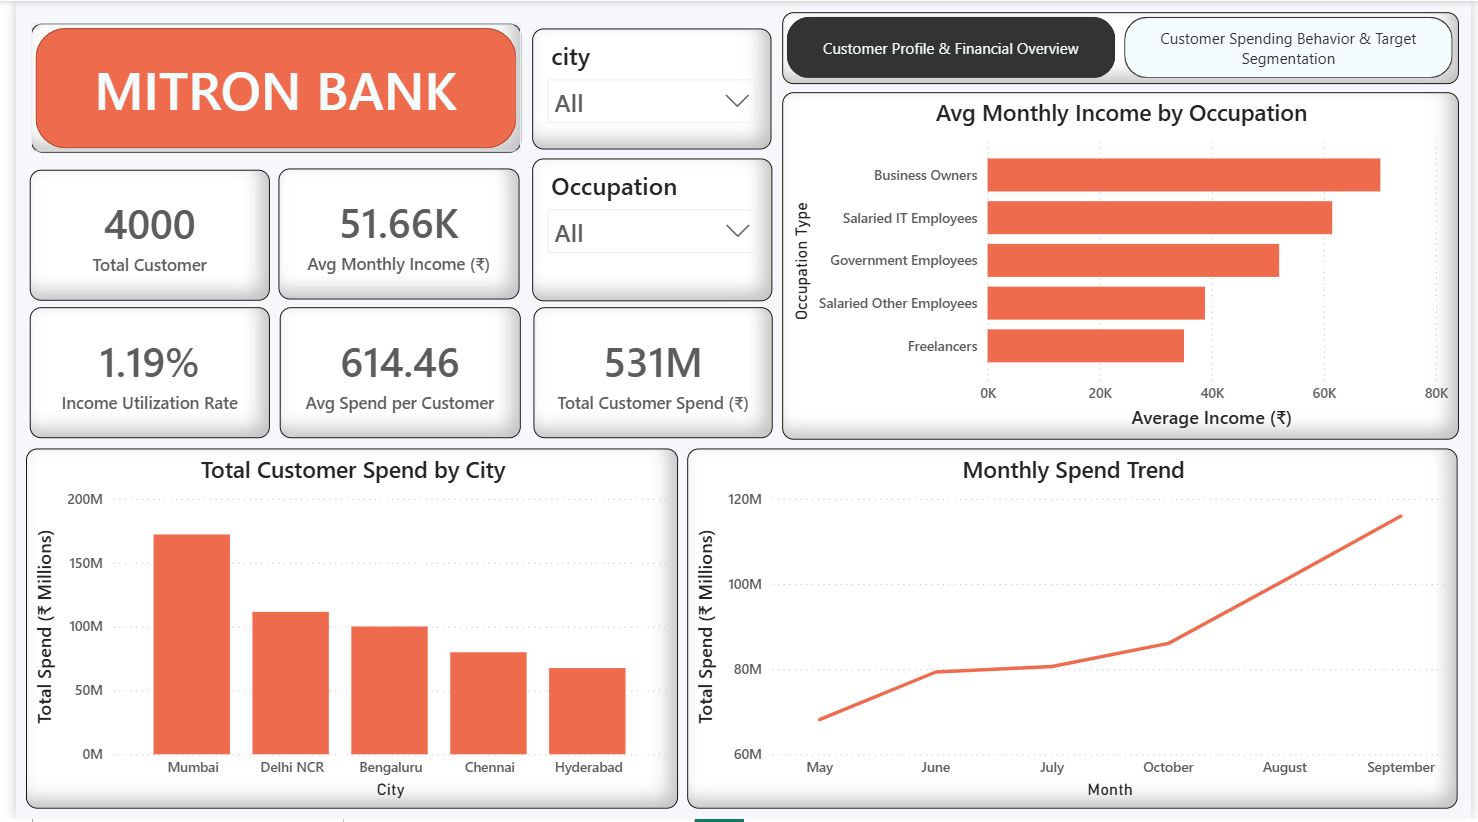

What the dashboard file says about the page in this screenshot:
{"tool":"powerbi","page":{"name":"Customer Profile & Financial Overview","canvas":[1280,720],"ordinal":0},"visuals":[{"type":"card","fields":{"Values":["dim_customers.Total Customers"]},"box":[11.7,148.3,211.2,115],"z":0},{"type":"card","fields":{"Values":["dim_customers.Average Income"]},"box":[231.3,147.4,211.8,115],"z":1000},{"type":"card","fields":{"Values":["fact_spends.Average Spend"]},"box":[232.4,269.9,211.8,115],"z":2000},{"type":"card","fields":{"Values":["dim_customers.Income Utilization"]},"box":[11.6,269.7,211.2,115],"z":3000},{"type":"card","fields":{"Values":["fact_spends.Total Spend"]},"box":[455.1,269.9,210.6,115],"z":4000},{"type":"shape","box":[13.3,19.4,430.9,113.8],"z":5000},{"type":"clusteredColumnChart","title":"Total Customer Spend by City","fields":{"Category":["dim_customers.city"],"Y":["fact_spends.Total Spend"]},"box":[8.6,393.3,573.8,317],"z":6000},{"type":"barChart","title":"Avg Monthly Income by Occupation","fields":{"Category":["dim_customers.occupation"],"Y":["dim_customers.Average Income"]},"box":[673.7,79.9,595.2,305.4],"z":7000},{"type":"lineChart","title":"Monthly Spend Trend","fields":{"Y":["fact_spends.Total Spend"],"Category":["fact_spends.month"]},"box":[590.9,393.3,678,317],"z":8000},{"type":"pageNavigator","box":[673.7,10,595.2,62.8],"z":9000},{"type":"slicer","fields":{"Values":["dim_customers.city"]},"box":[453.9,24.2,210.6,106.5],"z":10000},{"type":"slicer","fields":{"Values":["dim_customers.occupation"]},"box":[453.9,138.2,211.2,125.6],"z":11000}]}

Visuals, with their boxes in screenshot pixels (x1, y1, x2, y2), scaled from the page's 1280x720 canvas onto the 1478x822 screenshot:
card - dim_customers.Total Customers: (left=14, top=169, right=257, bottom=301)
card - dim_customers.Average Income: (left=267, top=168, right=512, bottom=300)
card - fact_spends.Average Spend: (left=268, top=308, right=513, bottom=439)
card - dim_customers.Income Utilization: (left=13, top=308, right=257, bottom=439)
card - fact_spends.Total Spend: (left=525, top=308, right=769, bottom=439)
shape: (left=15, top=22, right=513, bottom=152)
"Total Customer Spend by City" clusteredColumnChart: (left=10, top=449, right=672, bottom=811)
"Avg Monthly Income by Occupation" barChart: (left=778, top=91, right=1465, bottom=440)
"Monthly Spend Trend" lineChart: (left=682, top=449, right=1465, bottom=811)
pageNavigator: (left=778, top=11, right=1465, bottom=83)
slicer - dim_customers.city: (left=524, top=28, right=767, bottom=149)
slicer - dim_customers.occupation: (left=524, top=158, right=768, bottom=301)
